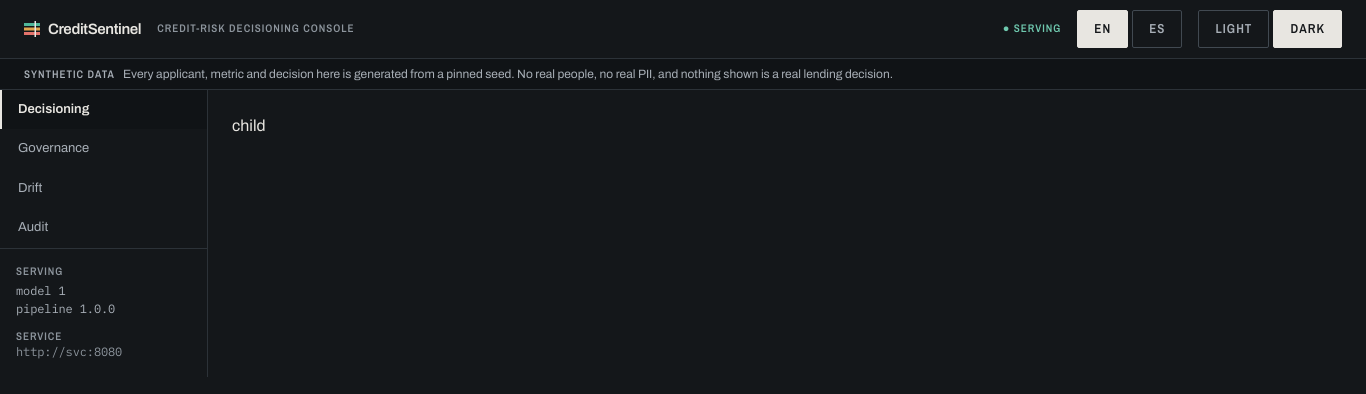
Scenario: interface language › defaults to English and switches the whole chrome to Spanish on toggle
Expected: the link "Decisioning" is shown, [0,90,207,129]
Click the button "es": click(1157, 29) [1132,10,1182,48]
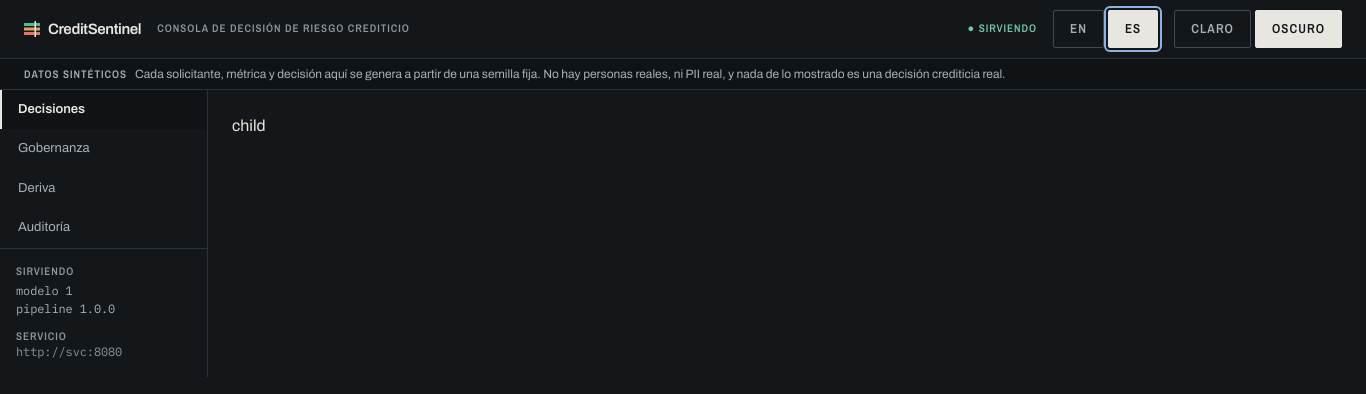
Expected: the link "Decisiones" is shown, [0,90,207,129]
Expected: the text "Datos sintéticos" is shown, [24,66,127,80]
